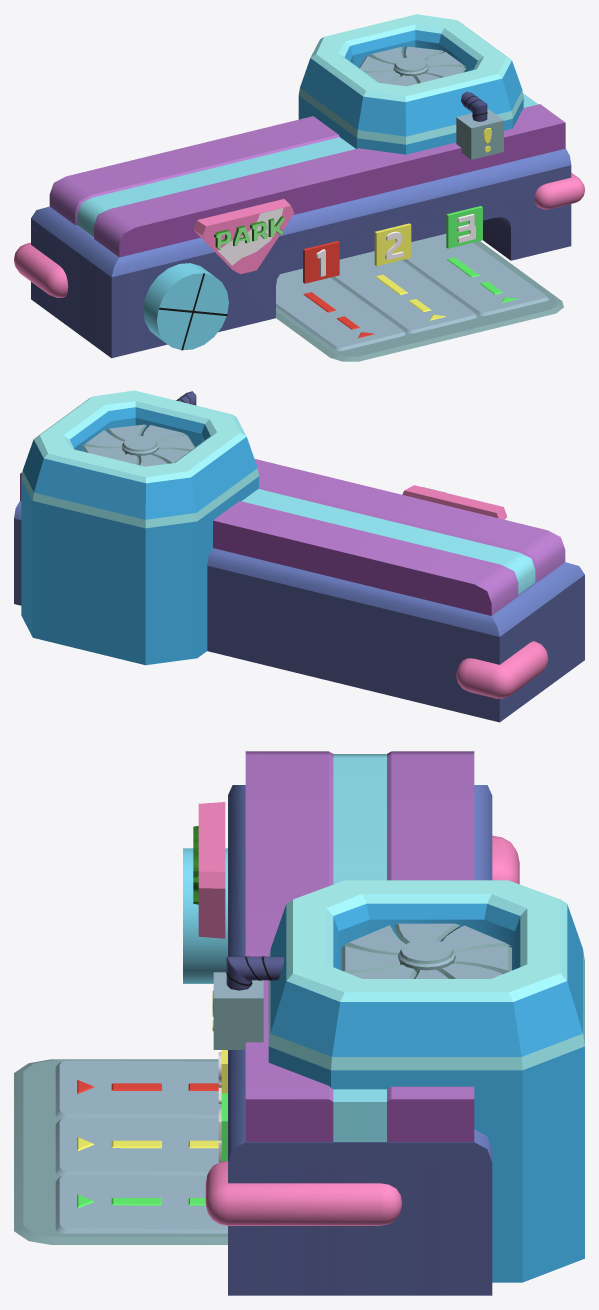
Rendered from Map01_Building01_02.FBX.
3 views of the same model, one above another, from view 1: azimuth 30°, elevation 25°; view 2: azimuth 150°, elevation 25°; view 3: azimuth 270°, elevation 25° (orthographic). The views are drawn at different scales.
Parts seen in each view (by area): view 1: Map01_Building01_02; view 2: Map01_Building01_02; view 3: Map01_Building01_02.
Part boxes in pixels (<box>): Map01_Building01_02: <box>14,14,584,361</box>; Map01_Building01_02: <box>14,390,584,722</box>; Map01_Building01_02: <box>14,751,584,1295</box>.
Size of the model in its own units: 1664 by 558 by 1033.
Materials: 1 (1 with a texture image).
